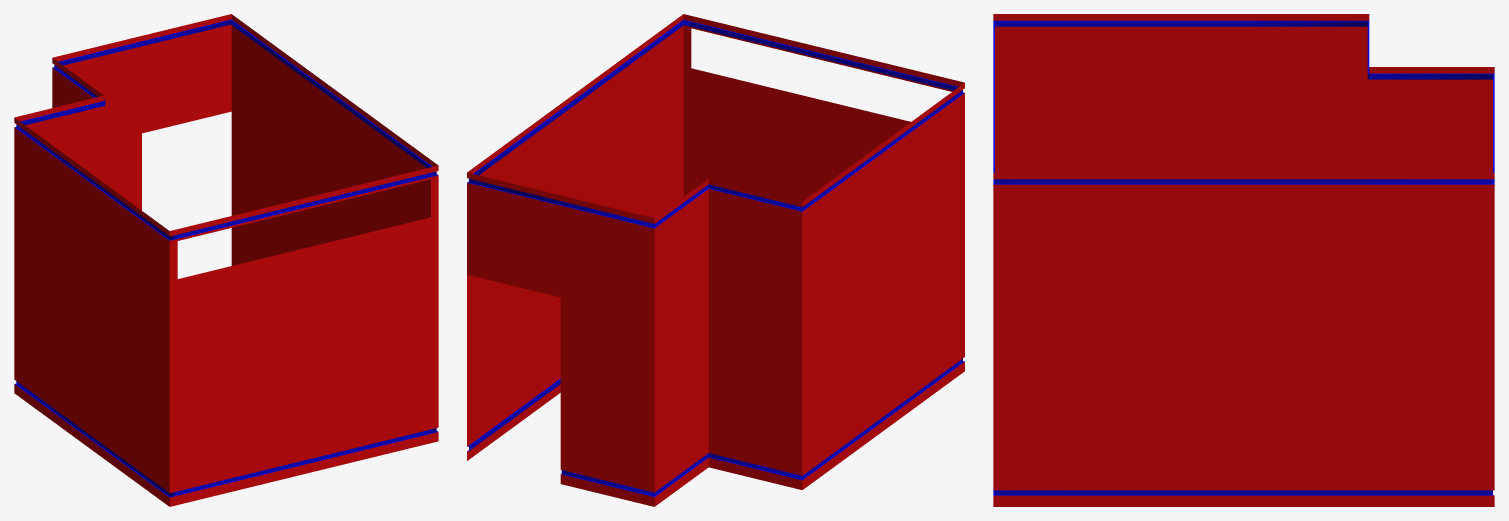
File: BathroomWalls.fbx
The picture shows the model from 3 angles, left to right: view 1: azimuth 30°, elevation 25°; view 2: azimuth 150°, elevation 25°; view 3: azimuth 270°, elevation 25°; orthographic projection. The views are drawn at different scales.
Parts seen in each view (by area): view 1: WallCorner3; view 2: WallCorner3; view 3: WallCorner3.
Part boxes in pixels (<box>): WallCorner3: <box>14,14,438,506</box>; WallCorner3: <box>467,14,964,506</box>; WallCorner3: <box>993,14,1494,506</box>.
Bounding box in the file's own units: 300 × 294 × 400.
